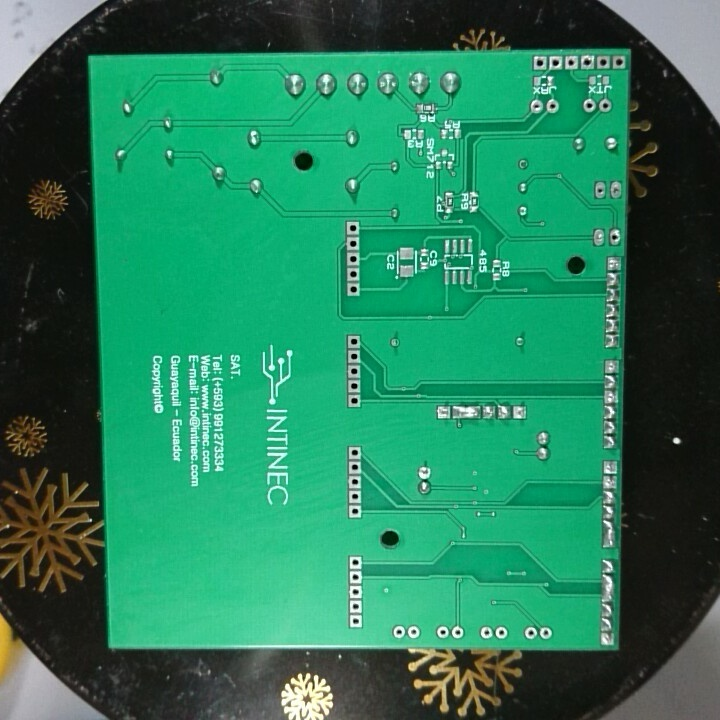F: (345, 281, 363, 299), (592, 227, 606, 249), (601, 474, 619, 491), (416, 464, 436, 479), (581, 53, 596, 73), (593, 180, 607, 201), (611, 52, 625, 73), (348, 554, 365, 571), (436, 404, 453, 421), (604, 358, 621, 375), (515, 157, 533, 173), (344, 219, 362, 235), (347, 446, 367, 460), (347, 334, 367, 348), (347, 346, 363, 363), (346, 250, 362, 267), (597, 98, 613, 115), (607, 255, 623, 272), (604, 389, 620, 406), (600, 629, 615, 647), (391, 624, 407, 640), (406, 624, 421, 641), (347, 614, 364, 629), (346, 235, 361, 252), (346, 266, 363, 281), (529, 98, 544, 115), (532, 55, 547, 72), (549, 55, 564, 72), (602, 459, 617, 476), (479, 624, 493, 642), (596, 53, 610, 71), (349, 598, 364, 614), (564, 56, 580, 71), (496, 625, 510, 642), (436, 624, 450, 641), (348, 569, 366, 582), (609, 181, 621, 200), (347, 379, 362, 394), (538, 625, 552, 641), (523, 625, 537, 641), (349, 489, 363, 505), (347, 476, 364, 489), (390, 335, 405, 349), (582, 98, 597, 112), (347, 506, 363, 519), (347, 460, 364, 472), (609, 227, 619, 247), (350, 583, 364, 597), (347, 394, 361, 408), (450, 625, 463, 640), (347, 365, 362, 378), (512, 404, 524, 420), (545, 99, 559, 109)
P: (453, 401, 480, 420), (600, 574, 617, 600), (604, 520, 617, 549)
